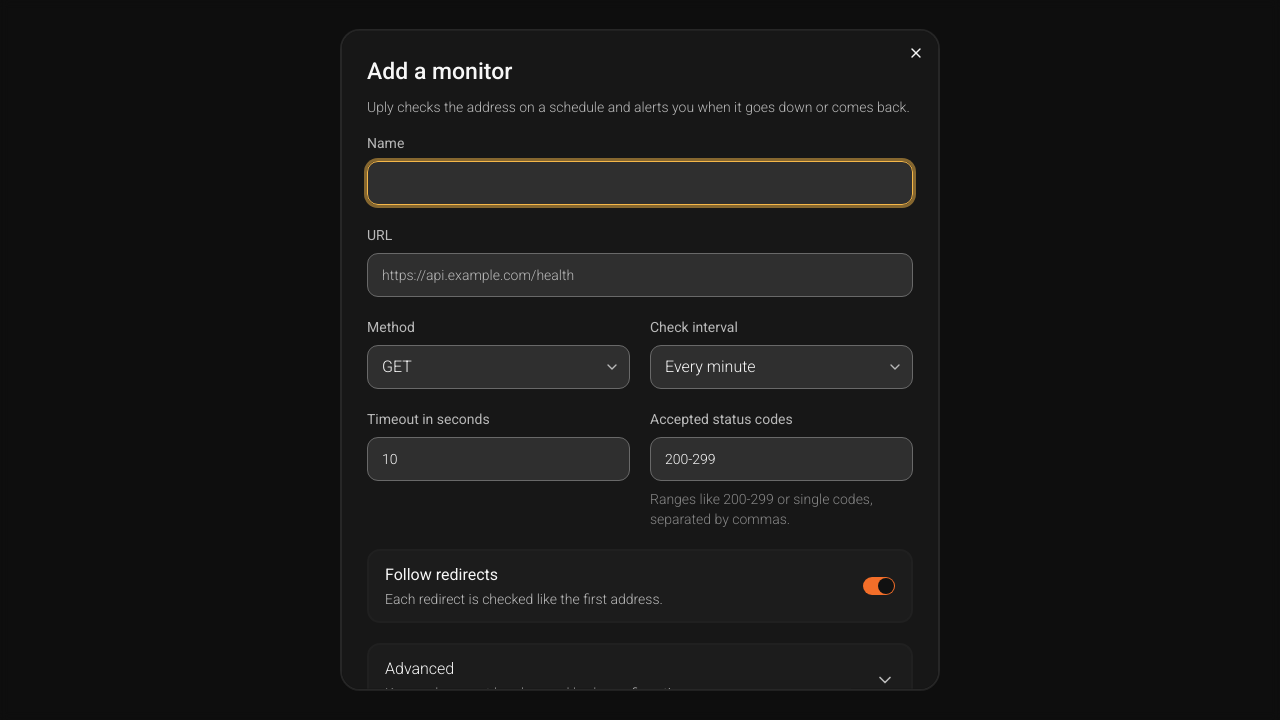
Scenario: MonitorFormDialog › stops adding rows at the limit of meta
Click the button "Advanced Keyword, request headers and body, confirmation" at (420, 668), box left=367, top=643, right=913, bottom=717
(page scrolled)
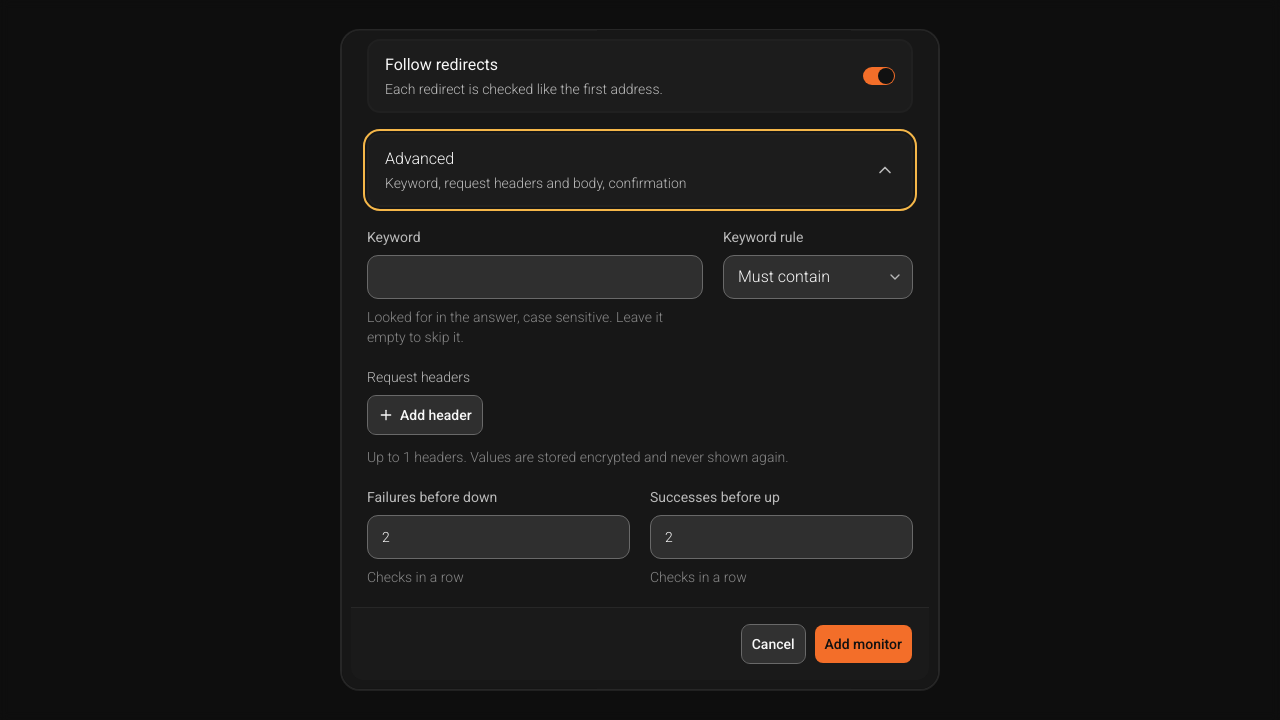
Click the button "Add header" at (425, 415), box left=367, top=395, right=483, bottom=435
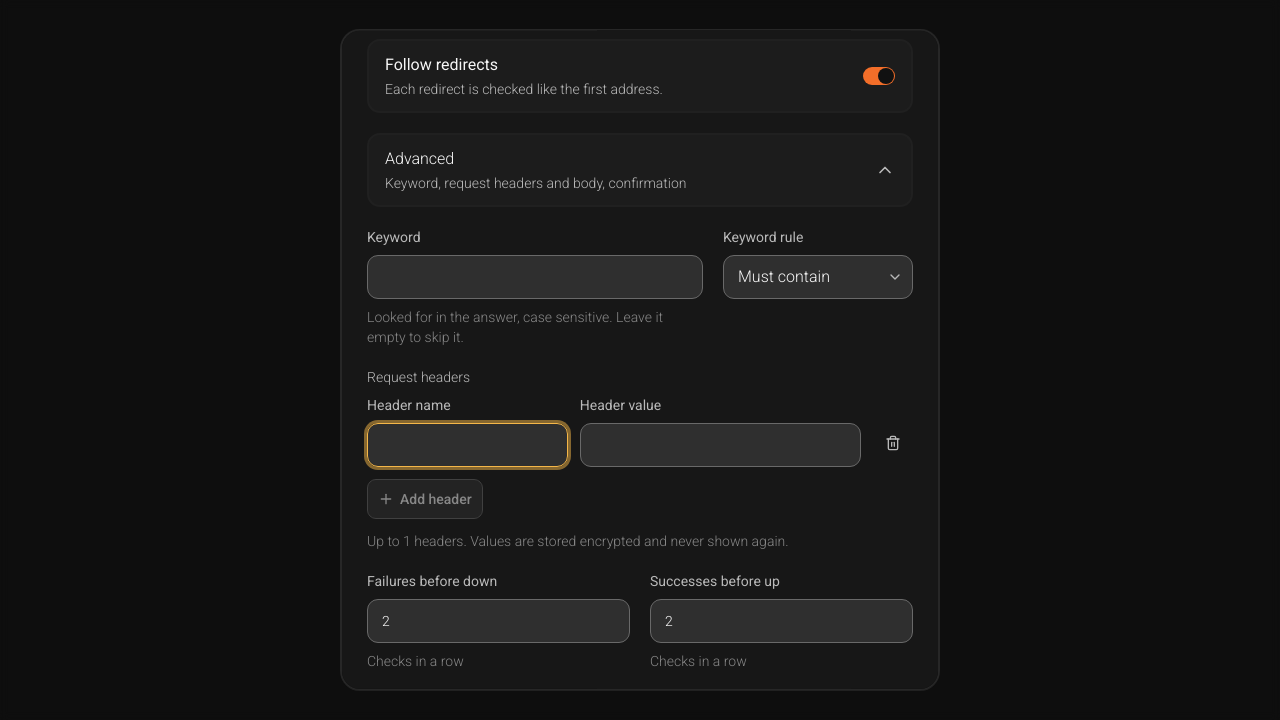
Check: the text "Up to 1 headers. Values are stored encrypted and never shown again." is shown, box left=367, top=533, right=789, bottom=549
Check: the button "Add header" is disabled, box left=367, top=479, right=483, bottom=519
